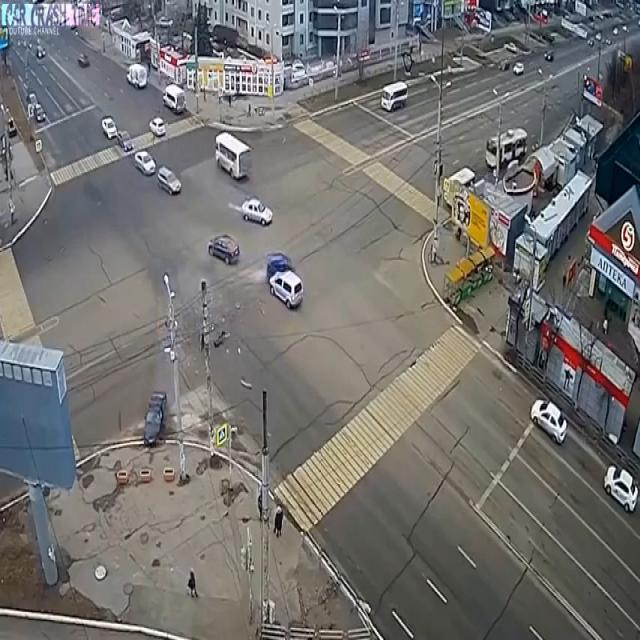Accident: (260, 231, 298, 337), (136, 345, 176, 440)
